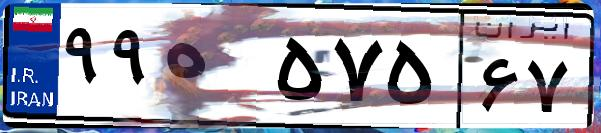5: (270, 28, 330, 110), (385, 28, 445, 110)
6: (475, 38, 525, 113)
7: (330, 28, 385, 110), (525, 38, 570, 115)
9: (57, 26, 110, 100), (110, 28, 158, 98)
ه: (158, 20, 270, 120)
